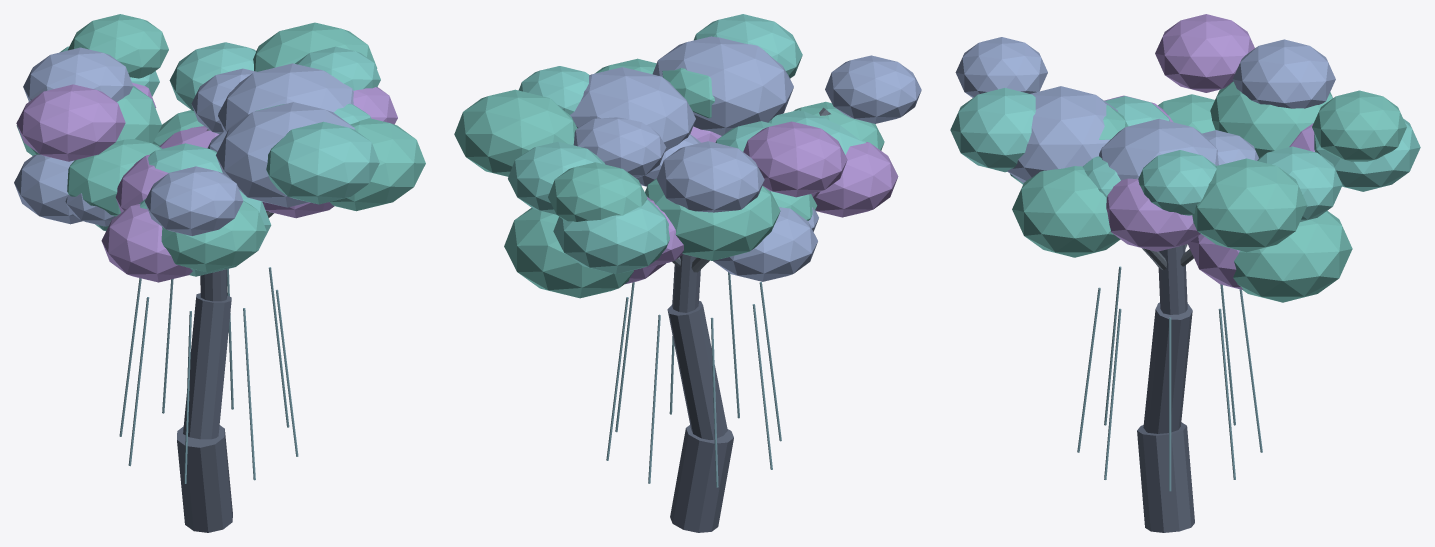
The model's file is hexcore_living_tree_03.glb.
The picture shows the model from 3 angles, left to right: view 1: azimuth 30°, elevation 25°; view 2: azimuth 150°, elevation 25°; view 3: azimuth 270°, elevation 25°; orthographic projection. The views are drawn at different scales.
Parts seen in each view (by area): view 1: world; view 2: world; view 3: world.
Part boxes in pixels (x1,y1,x2,y2): world: (14,14,425,532); world: (454,14,921,532); world: (950,14,1420,532).
Bounding box in the file's own units: 21.12 × 24.58 × 23.36.
